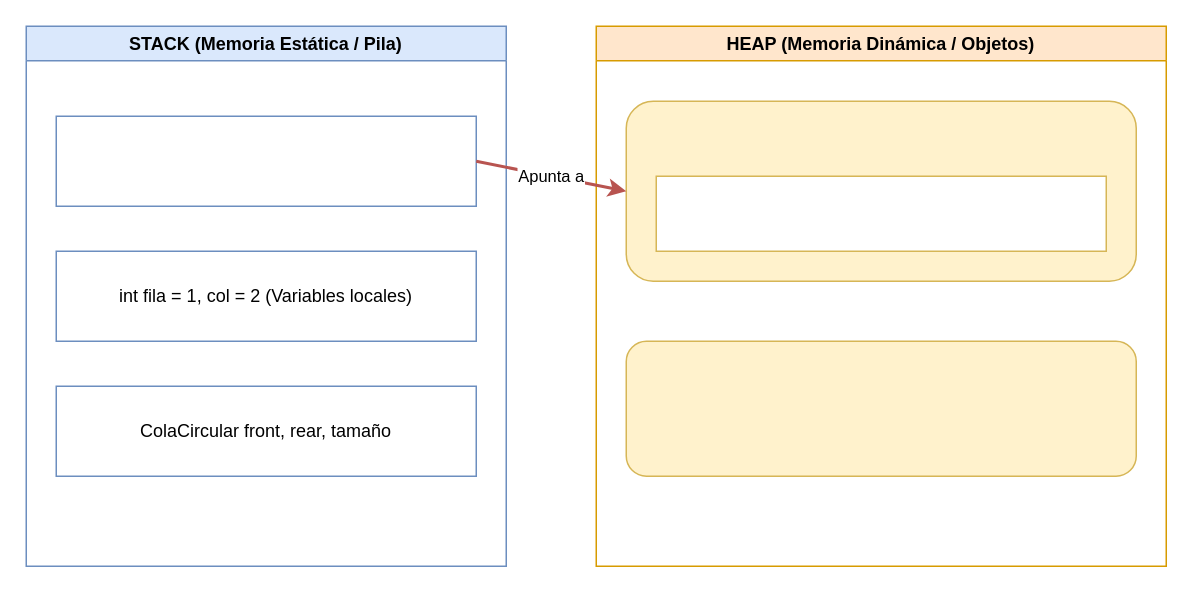
The diagram is 1193 pixels wide and 593 high, and some of its shapes have lost their labels. Here are the shapes that lost their labels. From the top down, the centre of each, then its label:
At pixel 265 160: "auditorio (Referencia) [Fila x Columna]".
At pixel 880 213: "[Libre] | [Ocupado] (Acceso O(1) por índice)".
At pixel 880 408: "Buffer Circular (Array de Enteros / Nodos)".
